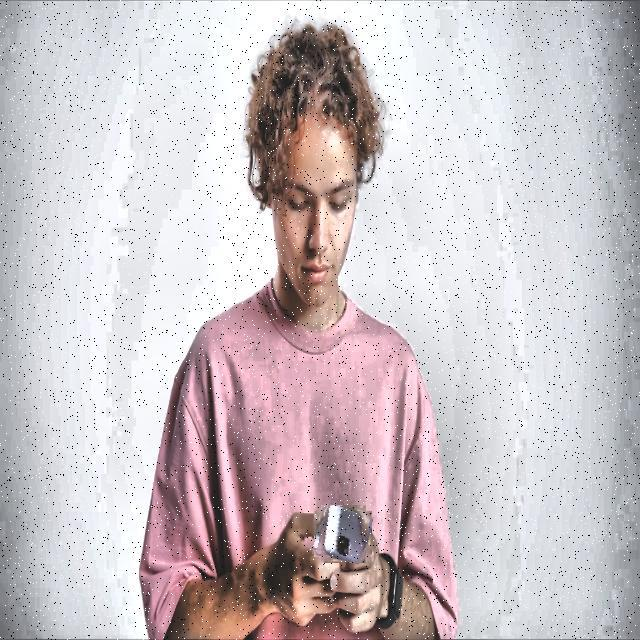Phone: (314, 506, 372, 562)
